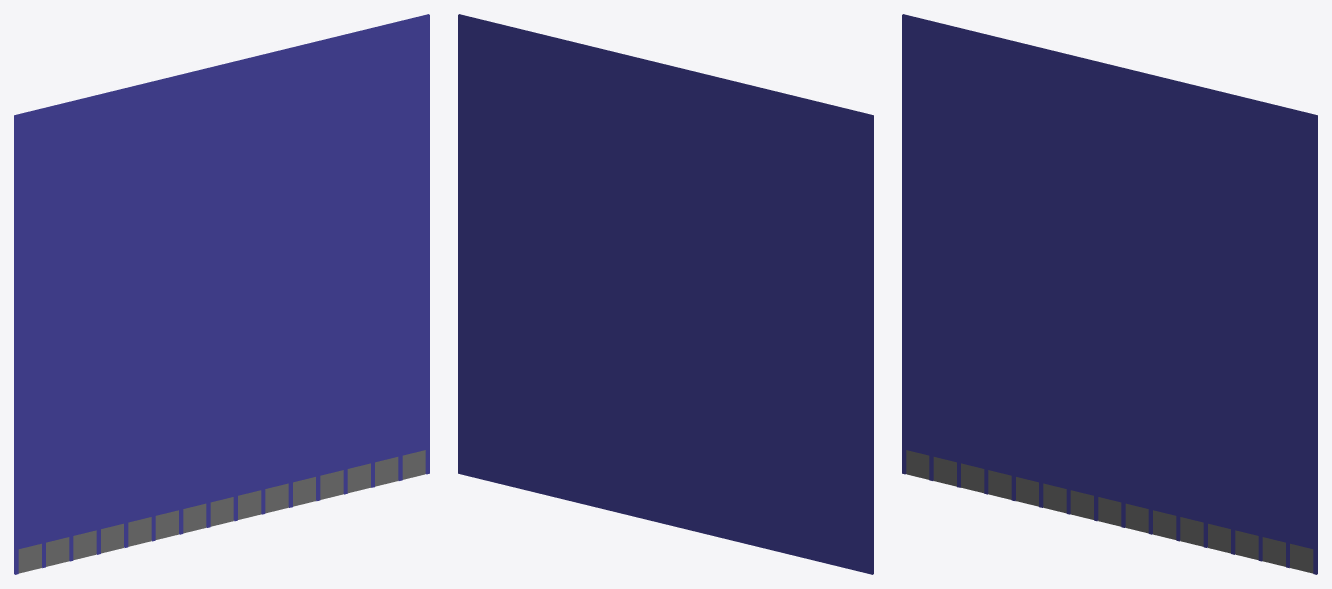
File: mod_fx_item_music_box_003.fbx
The picture shows the model from 3 angles, left to right: view 1: azimuth 30°, elevation 25°; view 2: azimuth 150°, elevation 25°; view 3: azimuth 330°, elevation 25°; orthographic projection.
Visible parts, largest first — view 1: mod_fx_item_musicaction_003; view 2: mod_fx_item_musicaction_003; view 3: mod_fx_item_musicaction_003.
Part boxes in pixels (x1,y1,x2,y2): mod_fx_item_musicaction_003: (14, 14, 429, 574); mod_fx_item_musicaction_003: (458, 14, 873, 574); mod_fx_item_musicaction_003: (902, 14, 1317, 574).
Size of the model in its own units: 351 by 371 by 1.21.
